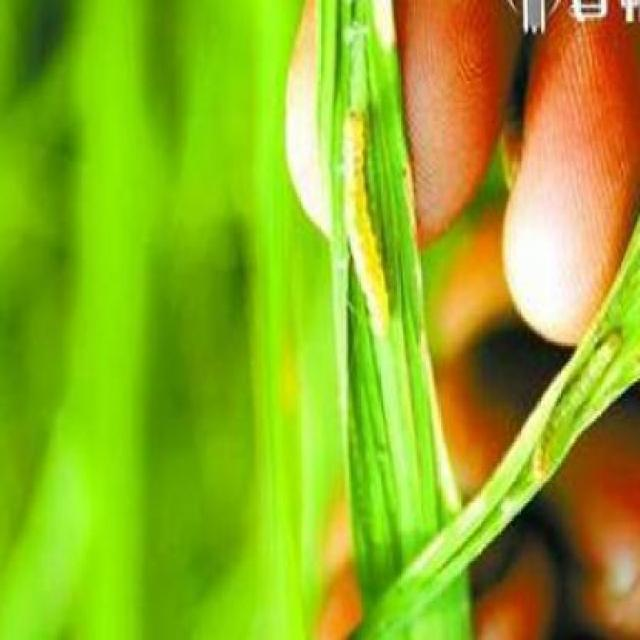leaf-folder: (332, 92, 411, 360), (532, 311, 640, 478)
